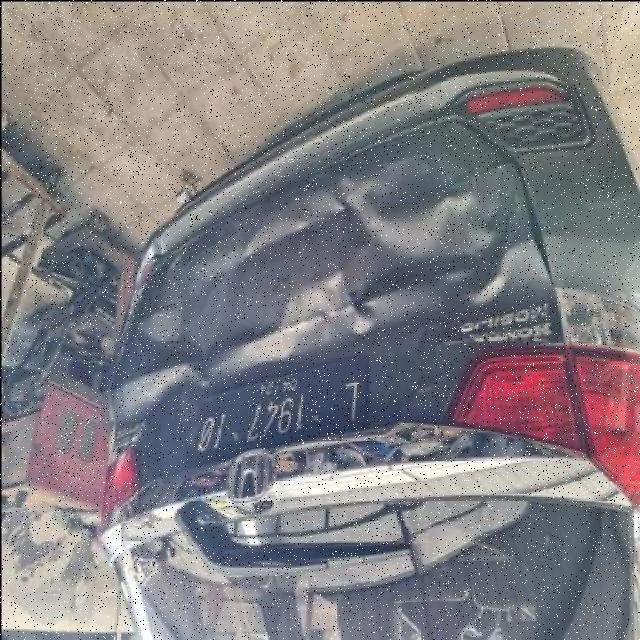damage: (112, 114, 552, 411)
